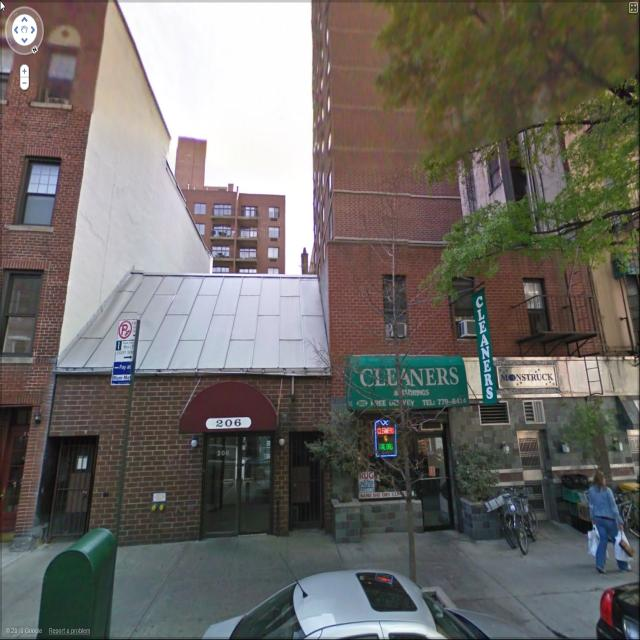b_1: (57, 258, 326, 536), (0, 8, 105, 536), (184, 170, 296, 268)
b_2: (316, 1, 604, 512), (551, 7, 640, 425)
